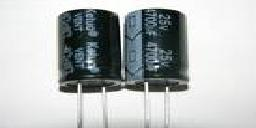Electrolytic Capacitor: (53, 6, 122, 128), (124, 6, 191, 128)
